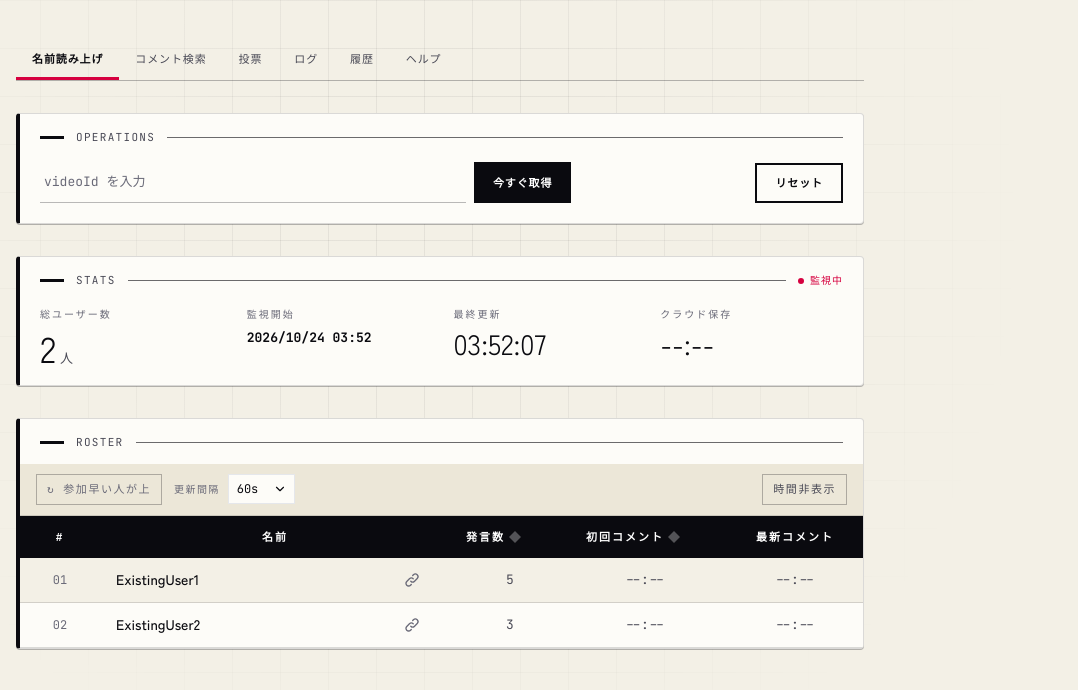
Test: App Integration (MSW) › 停止中(WAITING)でもユーザーリストが保持される
# 手動でrefresh実行（MSWがレスポンスを確実に返すため）
Click the button "今すぐ取得".
click(523, 183)  # box top-left (474, 162), bottom-right (571, 204)
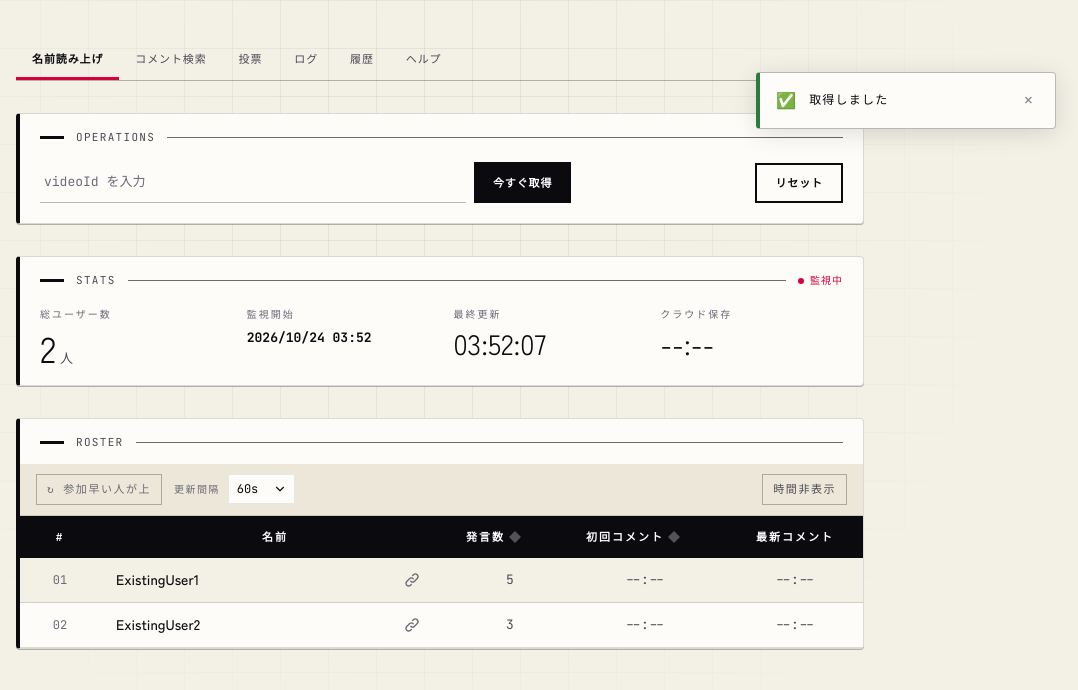
Expected: the text "ExistingUser1" is shown, top-left (116, 569), bottom-right (199, 589)
Expected: the text "ExistingUser2" is shown, top-left (116, 614), bottom-right (200, 634)
# 手動でrefreshを実行（自動更新と同じ処理）
Click the button "今すぐ取得".
click(523, 183)  # box top-left (474, 162), bottom-right (571, 204)
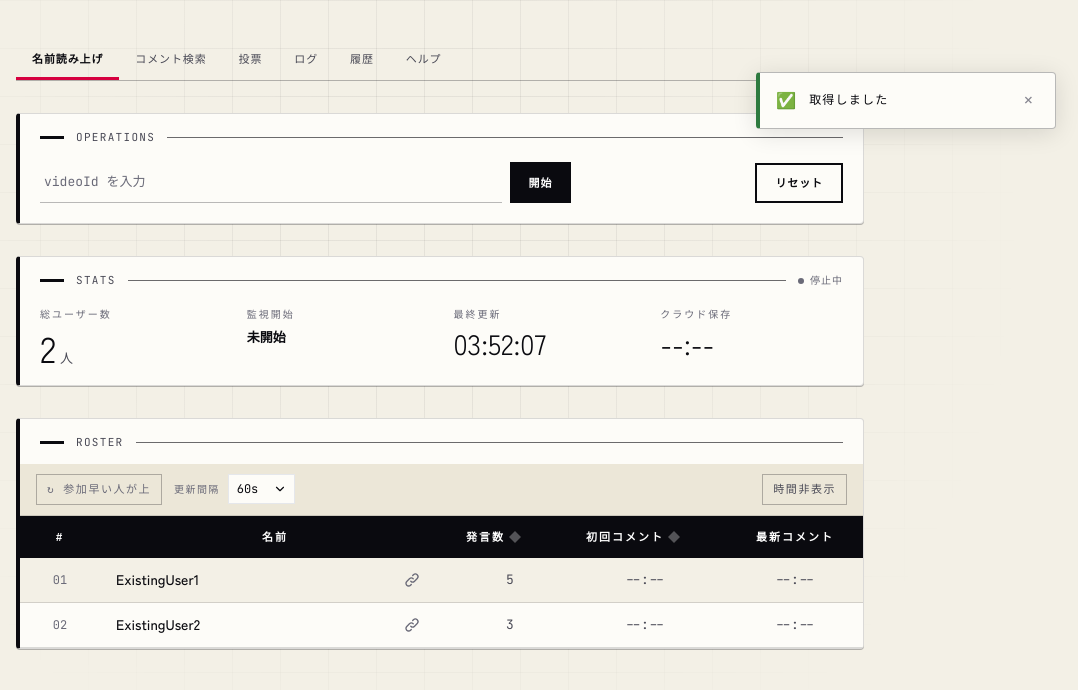
Expected: the text "ExistingUser1" is shown, top-left (116, 569), bottom-right (199, 589)
Result: the text "停止中" is shown at top-left (798, 272), bottom-right (843, 289)
